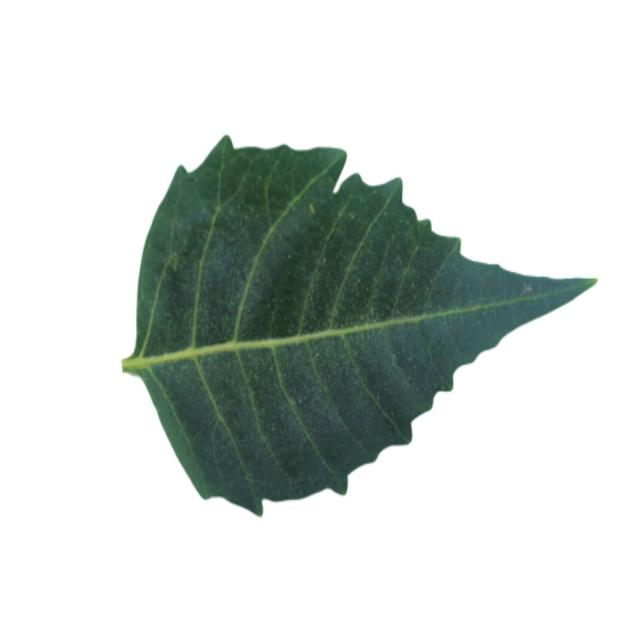Medicinal-Neem: (120, 132, 598, 514)
